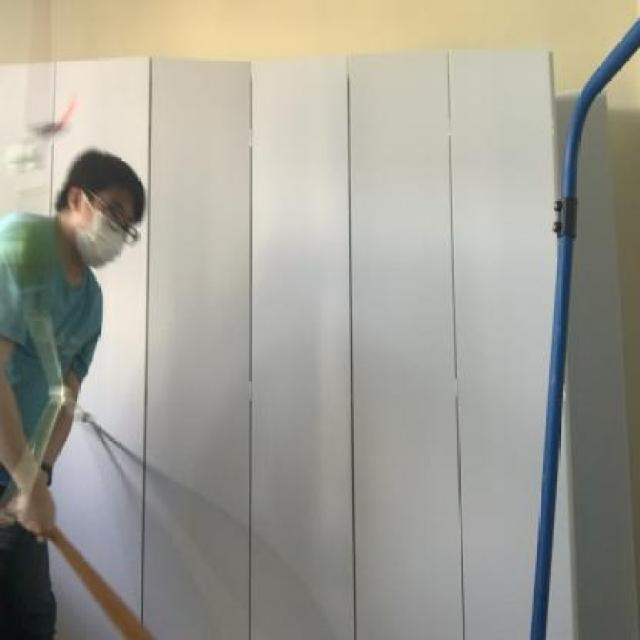baseball: (0, 219, 54, 284)
